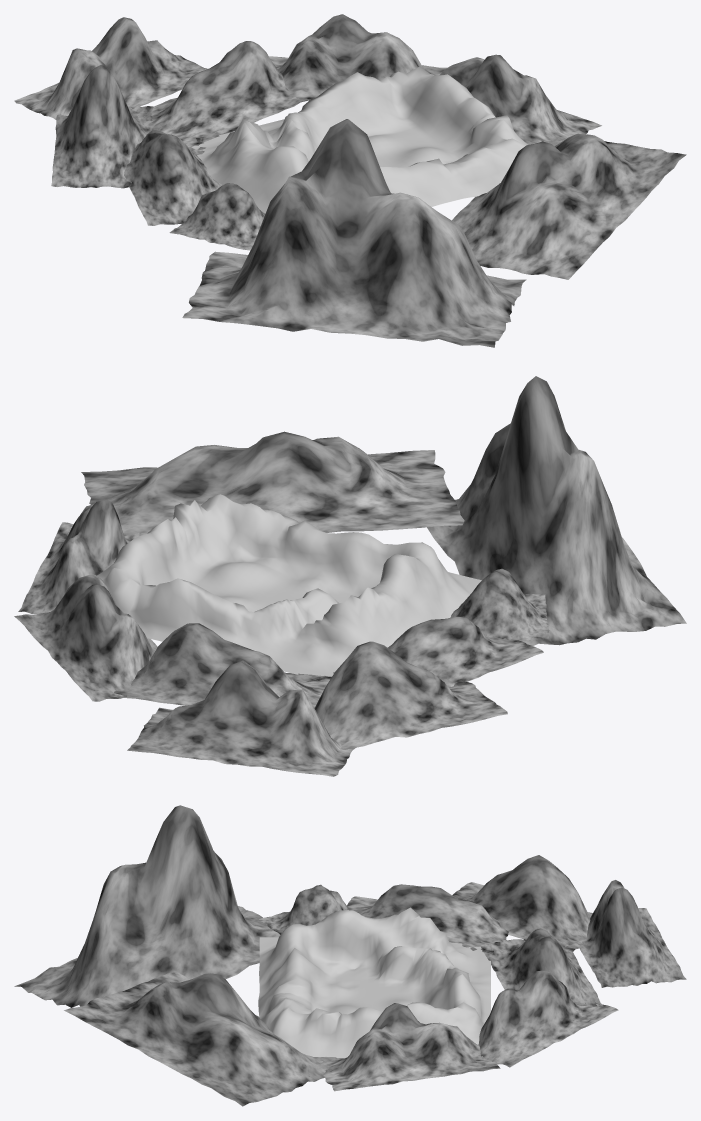
The model's file is ColdEnviroment.fbx.
3 renders of one model, top to bottom at view 1: azimuth 30°, elevation 25°; view 2: azimuth 150°, elevation 25°; view 3: azimuth 270°, elevation 25°, orthographic. The views are drawn at different scales.
Parts seen in each view (by area): view 1: Mountain, Enviroment; view 2: Mountain, Enviroment; view 3: Mountain, Enviroment.
Boxes of the visible parts, <box> form: Mountain: <box>14,14,686,347</box>; Enviroment: <box>191,67,527,213</box>; Mountain: <box>14,376,686,776</box>; Enviroment: <box>97,494,481,676</box>; Mountain: <box>14,805,686,1106</box>; Enviroment: <box>258,907,490,1058</box>.
Size of the model in its own units: 160 by 51.9 by 198.
